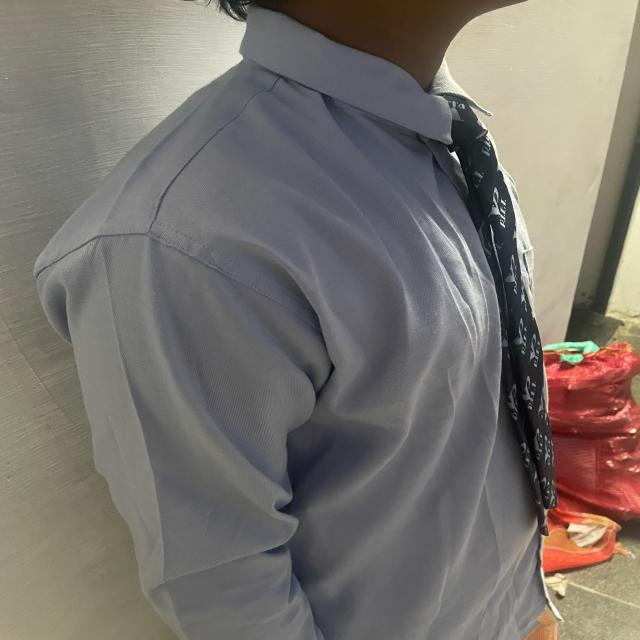Tie: (444, 94, 550, 467)
uniform: (32, 4, 560, 638)
